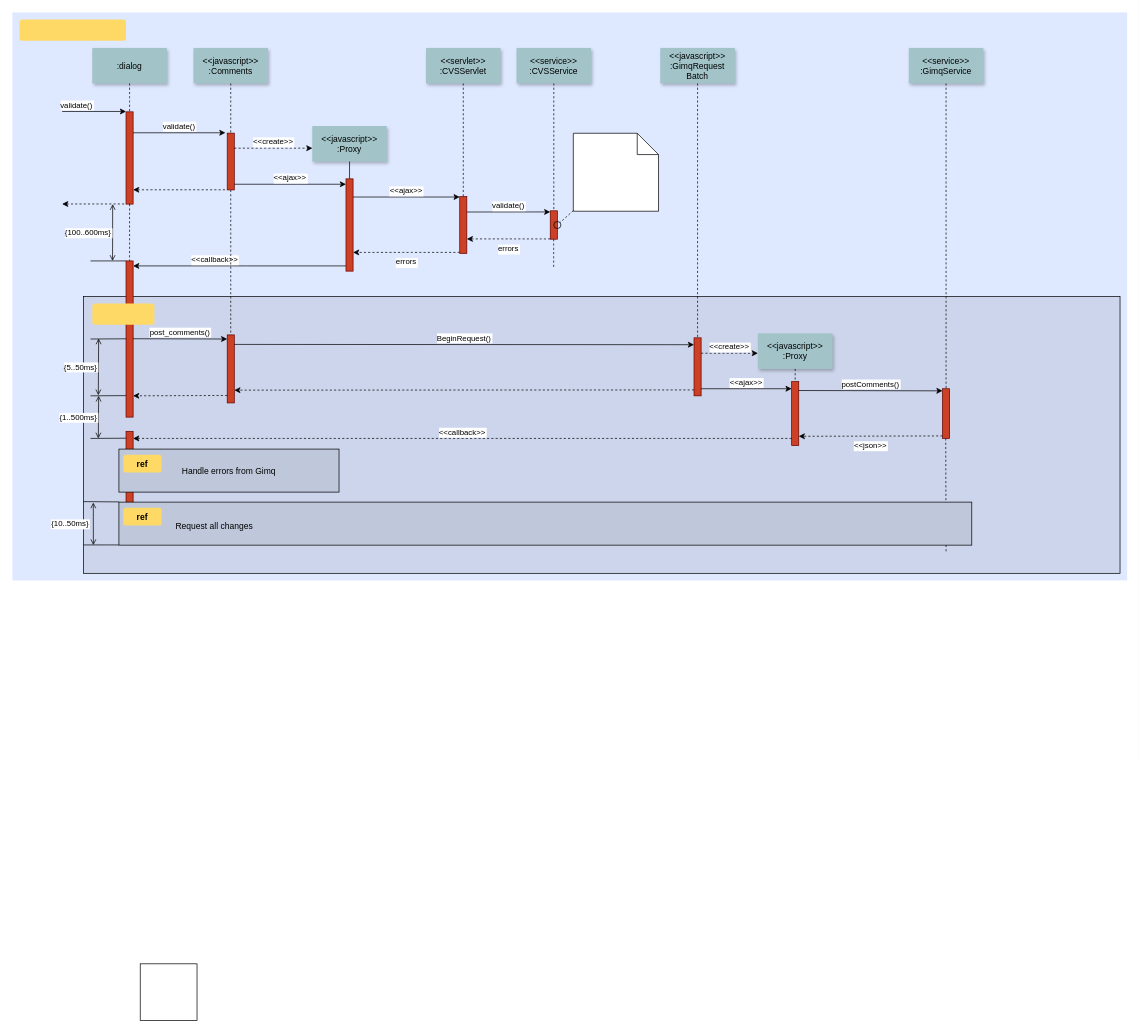
This 1139x1033 diagram has some shape labels left out. The shapes that lost their labels are listed below. From the top down, each one's centre as x and y in pixels, then its label:
At pixel 72 29: "rt submit_changes".
At pixel 616 172: "- user validation - password check".
At pixel 123 313: "opt".
At pixel 168 992: "test".
